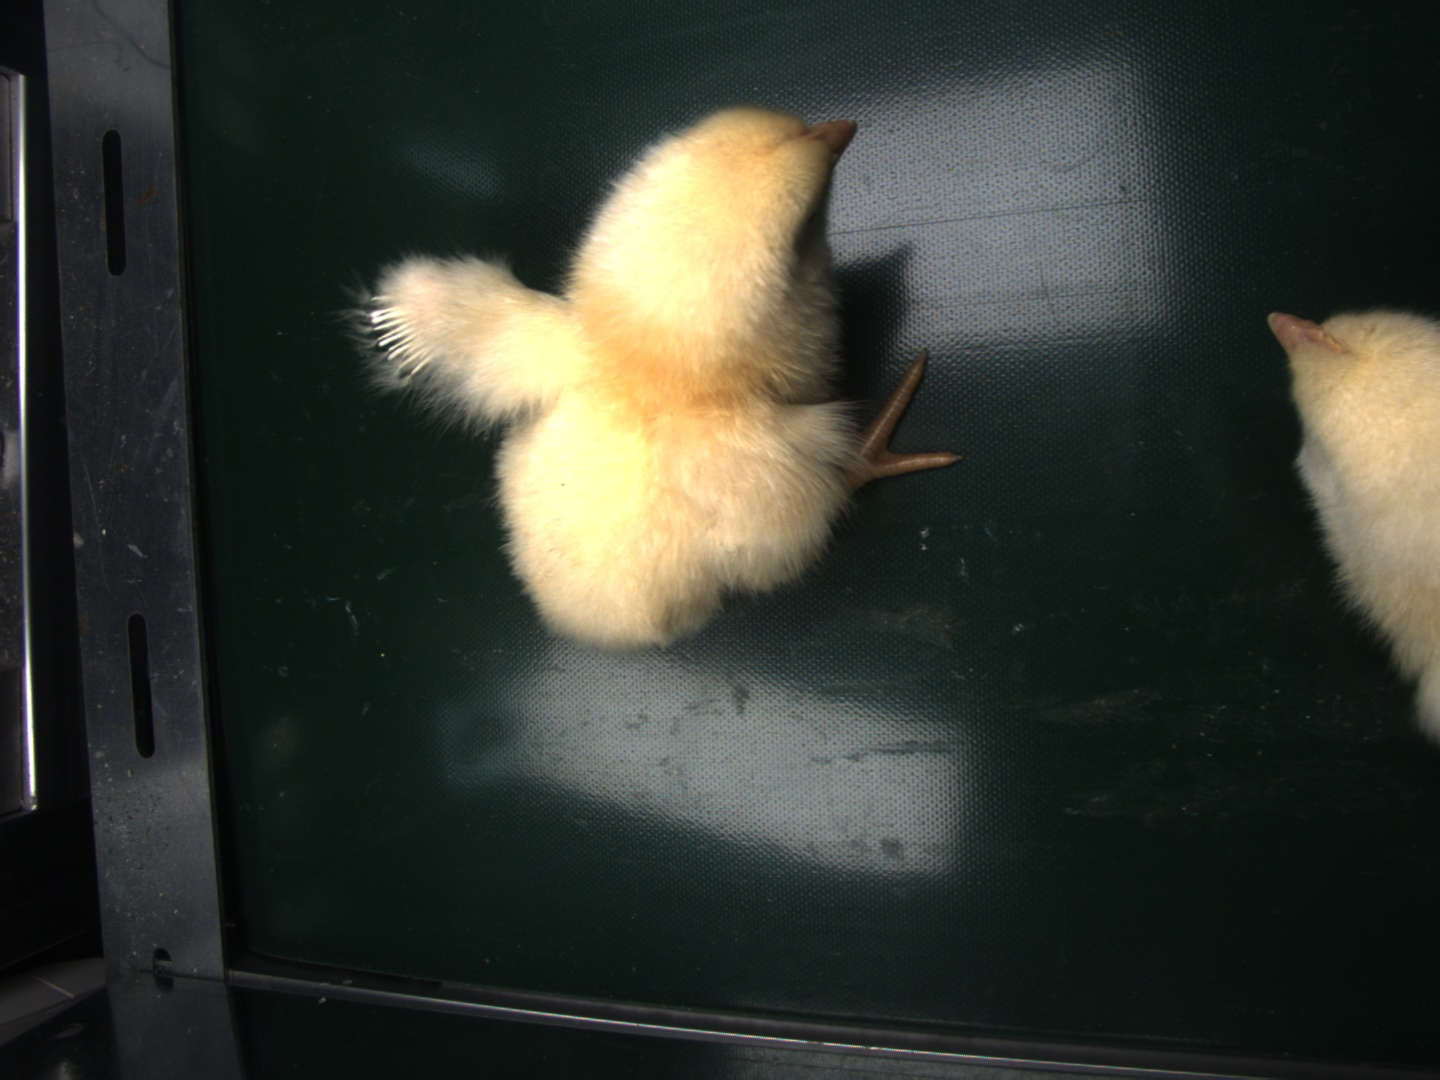male: (370, 298, 433, 372)
